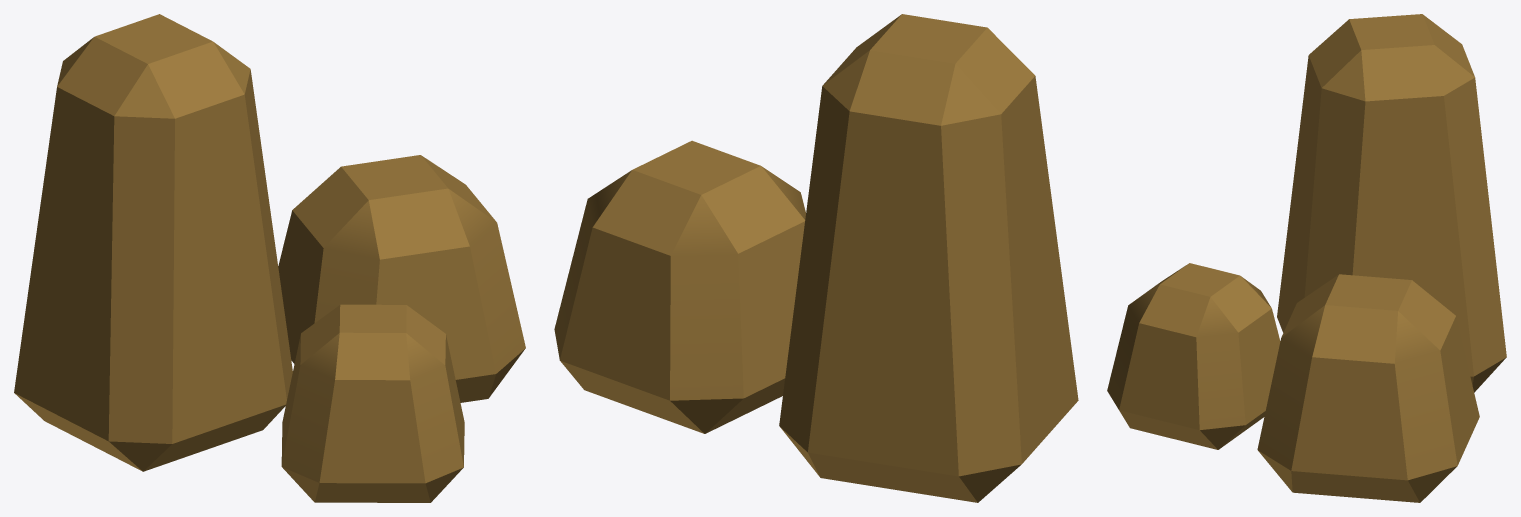
Rendered from stones.fbx.
3 views of the same model, side by side, from view 1: azimuth 30°, elevation 25°; view 2: azimuth 150°, elevation 25°; view 3: azimuth 270°, elevation 25° (orthographic). The views are drawn at different scales.
Parts seen in each view (by area): view 1: pCube16; view 2: pCube16; view 3: pCube16.
Boxes of the visible parts, left/top/right/bottom form: pCube16: left=14, top=14, right=525, bottom=502; pCube16: left=554, top=14, right=1078, bottom=502; pCube16: left=1107, top=14, right=1506, bottom=502.
Size of the model in its own units: 0.1048 by 0.086 by 0.0914.
